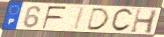6: (22, 5, 42, 29)
C: (109, 8, 134, 33)
D: (85, 7, 111, 31)
F: (41, 6, 69, 30)
H: (129, 8, 159, 35)
I: (73, 7, 86, 31)
